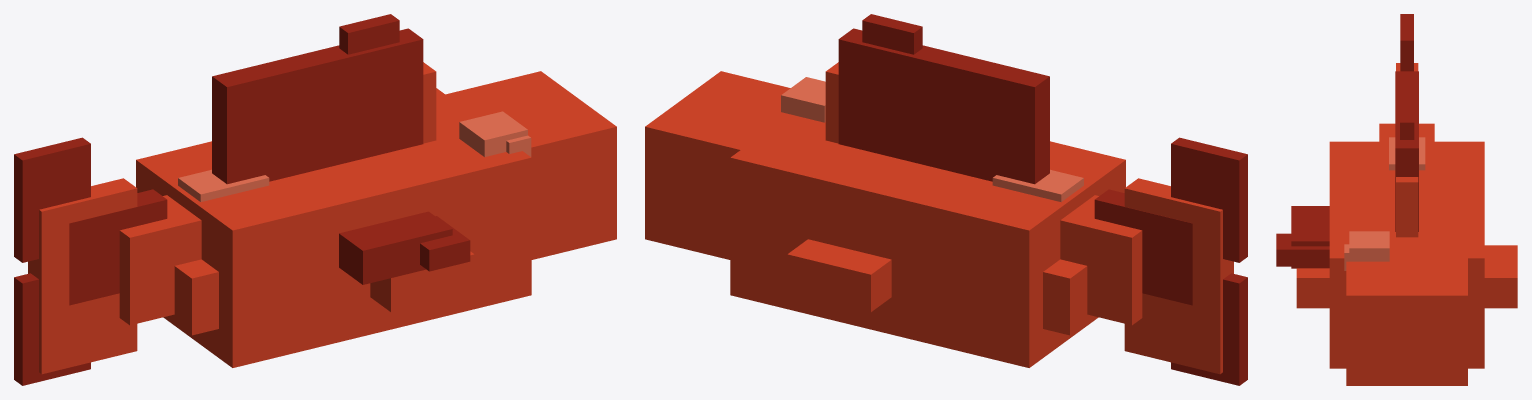
The model's file is fish_magma_cinder.glb.
3 renders of one model, left to right at view 1: azimuth 30°, elevation 25°; view 2: azimuth 150°, elevation 25°; view 3: azimuth 270°, elevation 25°, orthographic. The views are drawn at different scales.
Parts seen in each view (by area): view 1: FishArt_body, FishArt_dorsal, FishArt_tail, FishArt_pectoral, FishArt_eye, FishArt_specialty; view 2: FishArt_body, FishArt_dorsal, FishArt_tail, FishArt_specialty, FishArt_eye; view 3: FishArt_body, FishArt_pectoral, FishArt_dorsal, FishArt_eye, FishArt_tail, FishArt_specialty.
Part boxes in pixels (<box>): FishArt_body: <box>28,62,616,374</box>; FishArt_dorsal: <box>212,14,423,184</box>; FishArt_tail: <box>14,137,167,385</box>; FishArt_pectoral: <box>339,211,470,284</box>; FishArt_eye: <box>459,111,531,156</box>; FishArt_specialty: <box>178,169,269,201</box>; FishArt_body: <box>645,62,1233,374</box>; FishArt_dorsal: <box>838,14,1049,184</box>; FishArt_tail: <box>1094,137,1247,385</box>; FishArt_specialty: <box>992,169,1083,201</box>; FishArt_eye: <box>781,77,825,122</box>; FishArt_body: <box>1296,63,1517,385</box>; FishArt_pectoral: <box>1276,206,1329,268</box>; FishArt_dorsal: <box>1395,71,1418,231</box>; FishArt_eye: <box>1344,231,1389,270</box>; FishArt_tail: <box>1400,14,1413,71</box>; FishArt_specialty: <box>1389,137,1425,170</box>.
Bounding box in the file's own units: 0.3091 × 0.1442 × 0.1439.
